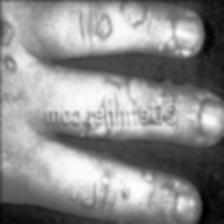Toxin: (120, 0, 145, 28), (0, 18, 16, 48), (96, 14, 110, 40), (140, 168, 152, 183), (3, 56, 15, 70), (100, 174, 110, 186)
